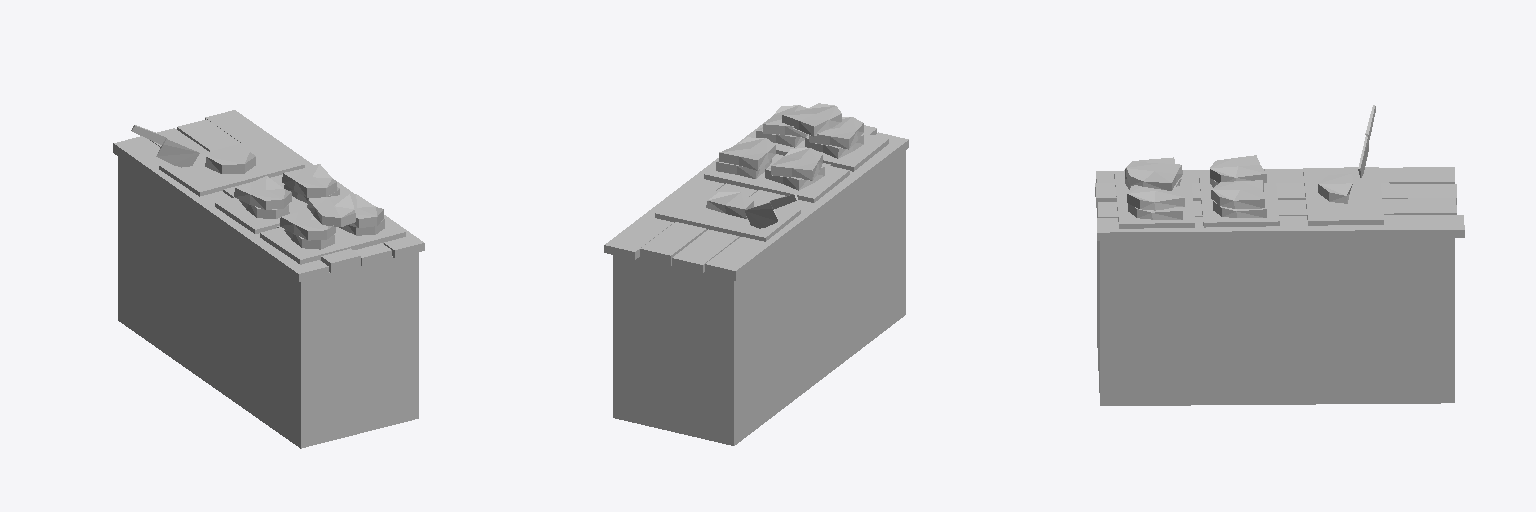
File: stall_table_001.obj
The picture shows the model from 3 angles: view 1: azimuth 30°, elevation 25°; view 2: azimuth 150°, elevation 25°; view 3: azimuth 270°, elevation 25°; orthographic projection.
Parts seen in each view (by area): view 1: stall_table_001; view 2: stall_table_001; view 3: stall_table_001.
Part boxes in pixels (left/top/right/bottom): stall_table_001: left=113, top=110, right=424, bottom=448; stall_table_001: left=604, top=103, right=908, bottom=445; stall_table_001: left=1095, top=105, right=1464, bottom=405.
Size of the model in its own units: 0.7618 by 1.08 by 1.57.